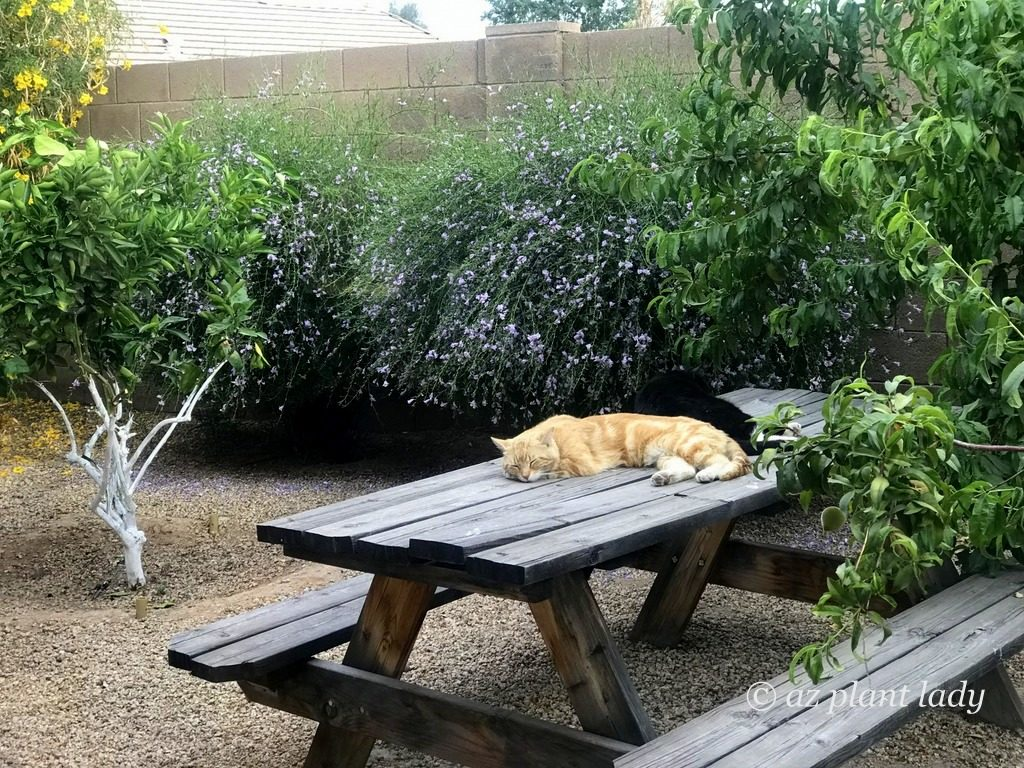cat: (493, 412, 750, 486)
